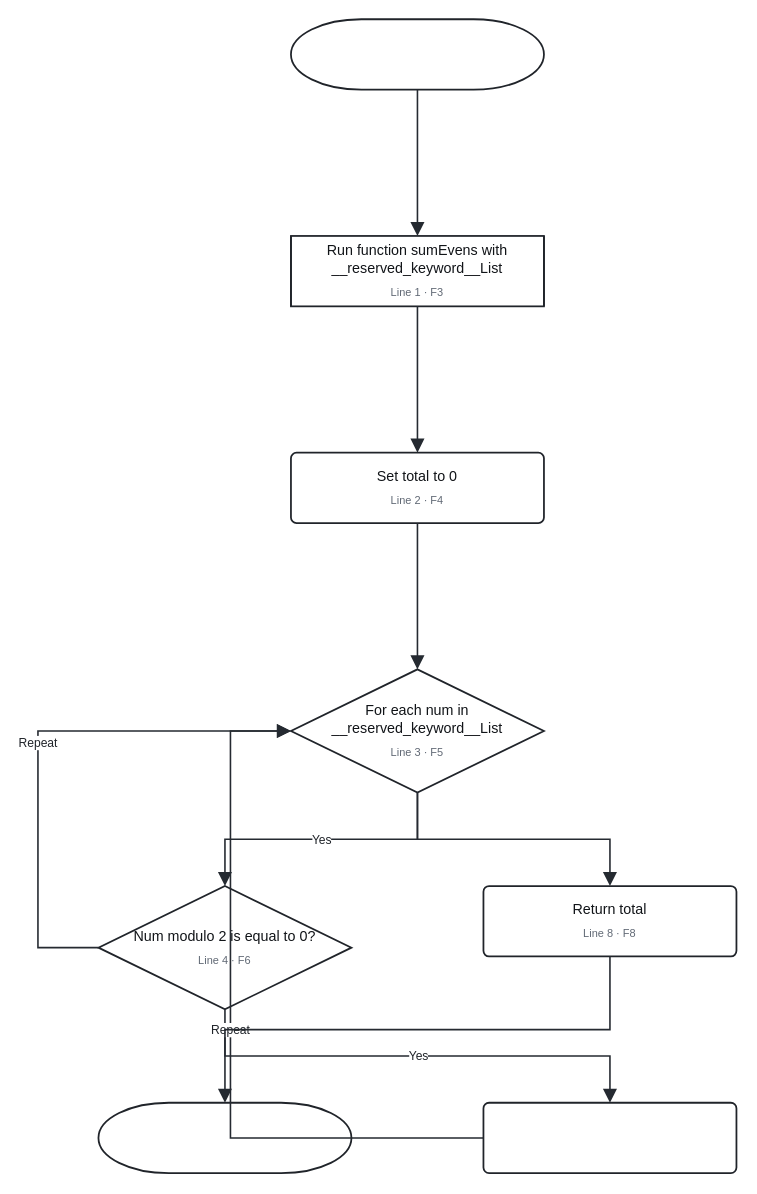
Some shapes in this 757 by 1194 pixel diagram are drawn without their labels. The shapes that lost their labels are listed below. From the top down, each one's centre as x and y in pixels, then its label:
At pixel 417 54: "Start Line 1 · F1".
At pixel 224 1137: "End Line 1 · F2".
At pixel 609 1137: "Set total to total plus num Line 5 · F7".
